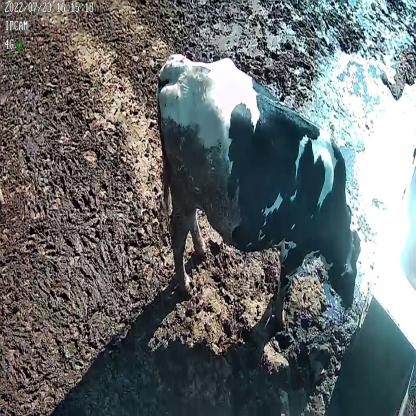cow: (155, 53, 361, 332)
